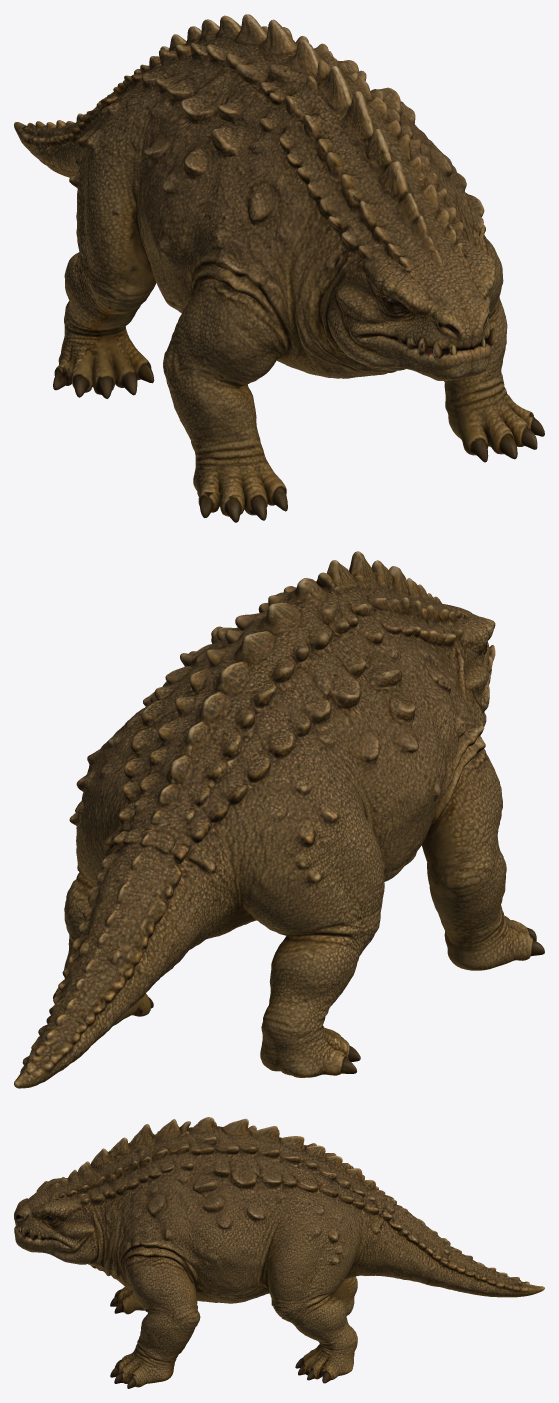
Rendered from massiff_static.glb.
3 views of the same model, one above another, from view 1: azimuth 30°, elevation 25°; view 2: azimuth 150°, elevation 25°; view 3: azimuth 270°, elevation 25° (orthographic). The views are drawn at different scales.
Bounding box in the file's own units: 0.4312 × 0.4684 × 1.
Materials: 1 (1 with a texture image).
